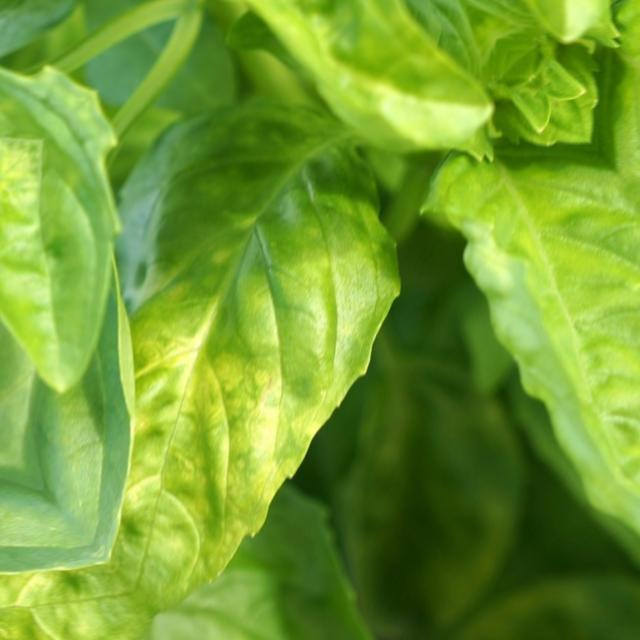Tomato leaf: (0, 44, 511, 624), (0, 194, 299, 640)
